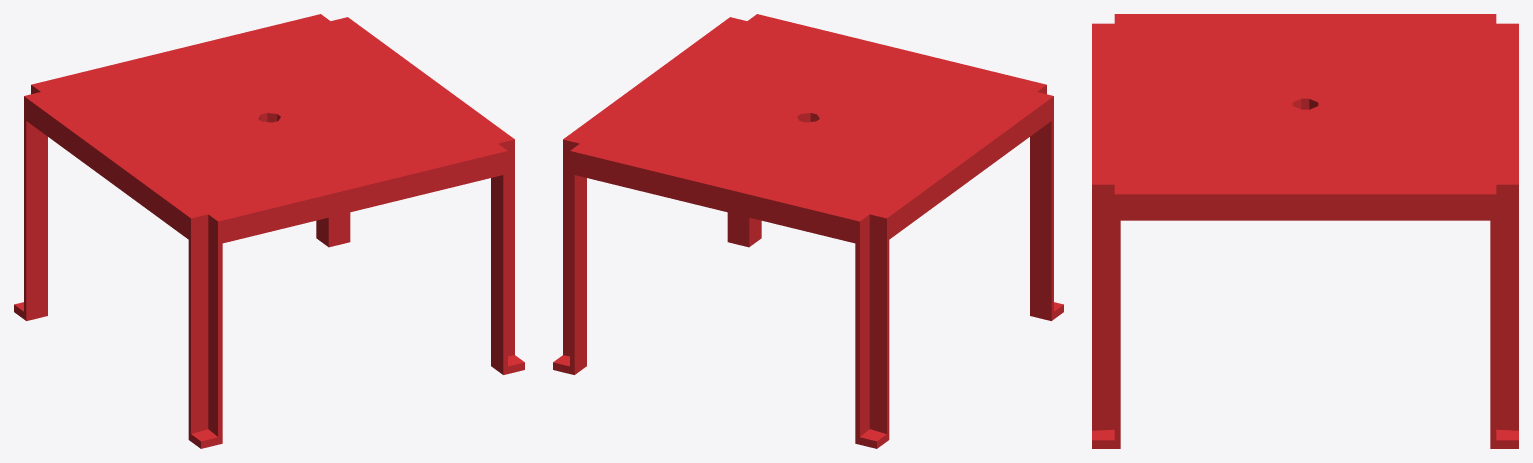
The model's file is PlasticTable.fbx.
The picture shows the model from 3 angles, left to right: view 1: azimuth 30°, elevation 25°; view 2: azimuth 150°, elevation 25°; view 3: azimuth 270°, elevation 25°; orthographic projection. The views are drawn at different scales.
Parts seen in each view (by area): view 1: Cube; view 2: Cube; view 3: Cube.
Boxes of the visible parts, <box> form: Cube: <box>14,14,524,448</box>; Cube: <box>553,14,1063,448</box>; Cube: <box>1092,14,1518,448</box>.
Size of the model in its own units: 400 by 264 by 400.
